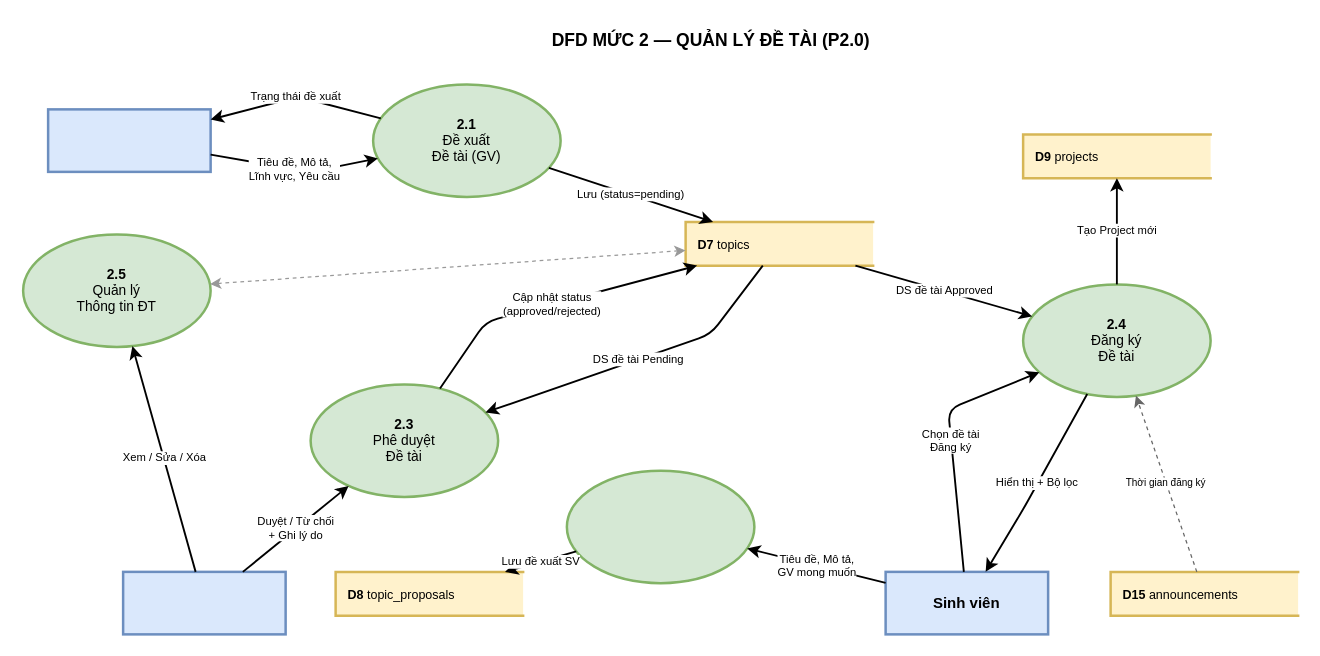
The diagram is 1320 pixels wide and 656 high, and some of its shapes have lost their labels. The shapes that lost their labels are listed below. From the top down, each one's centre as x and y in pixels, then its label:
(128,140): GV Hướng dẫn
(660,526): 2.2 Đề xuất Đề tài (SV)
(203,602): Admin
